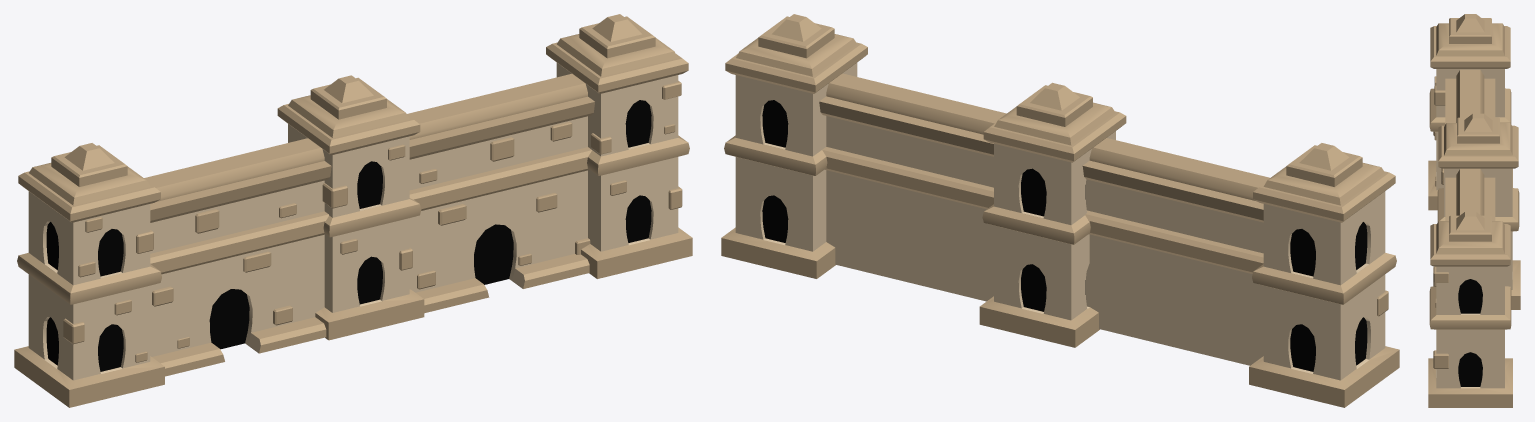
File: HypodromeEntrance.fbx
The picture shows the model from 3 angles, left to right: view 1: azimuth 30°, elevation 25°; view 2: azimuth 150°, elevation 25°; view 3: azimuth 270°, elevation 25°; orthographic projection. The views are drawn at different scales.
Parts seen in each view (by area): view 1: Cube.001; view 2: Cube.001; view 3: Cube.001.
Boxes of the visible parts, box(x1,y1,x2,y2) form: Cube.001: box(14, 14, 692, 407); Cube.001: box(721, 14, 1399, 407); Cube.001: box(1428, 14, 1520, 407).
Bounding box in the file's own units: 9955 × 3507 × 1667.
